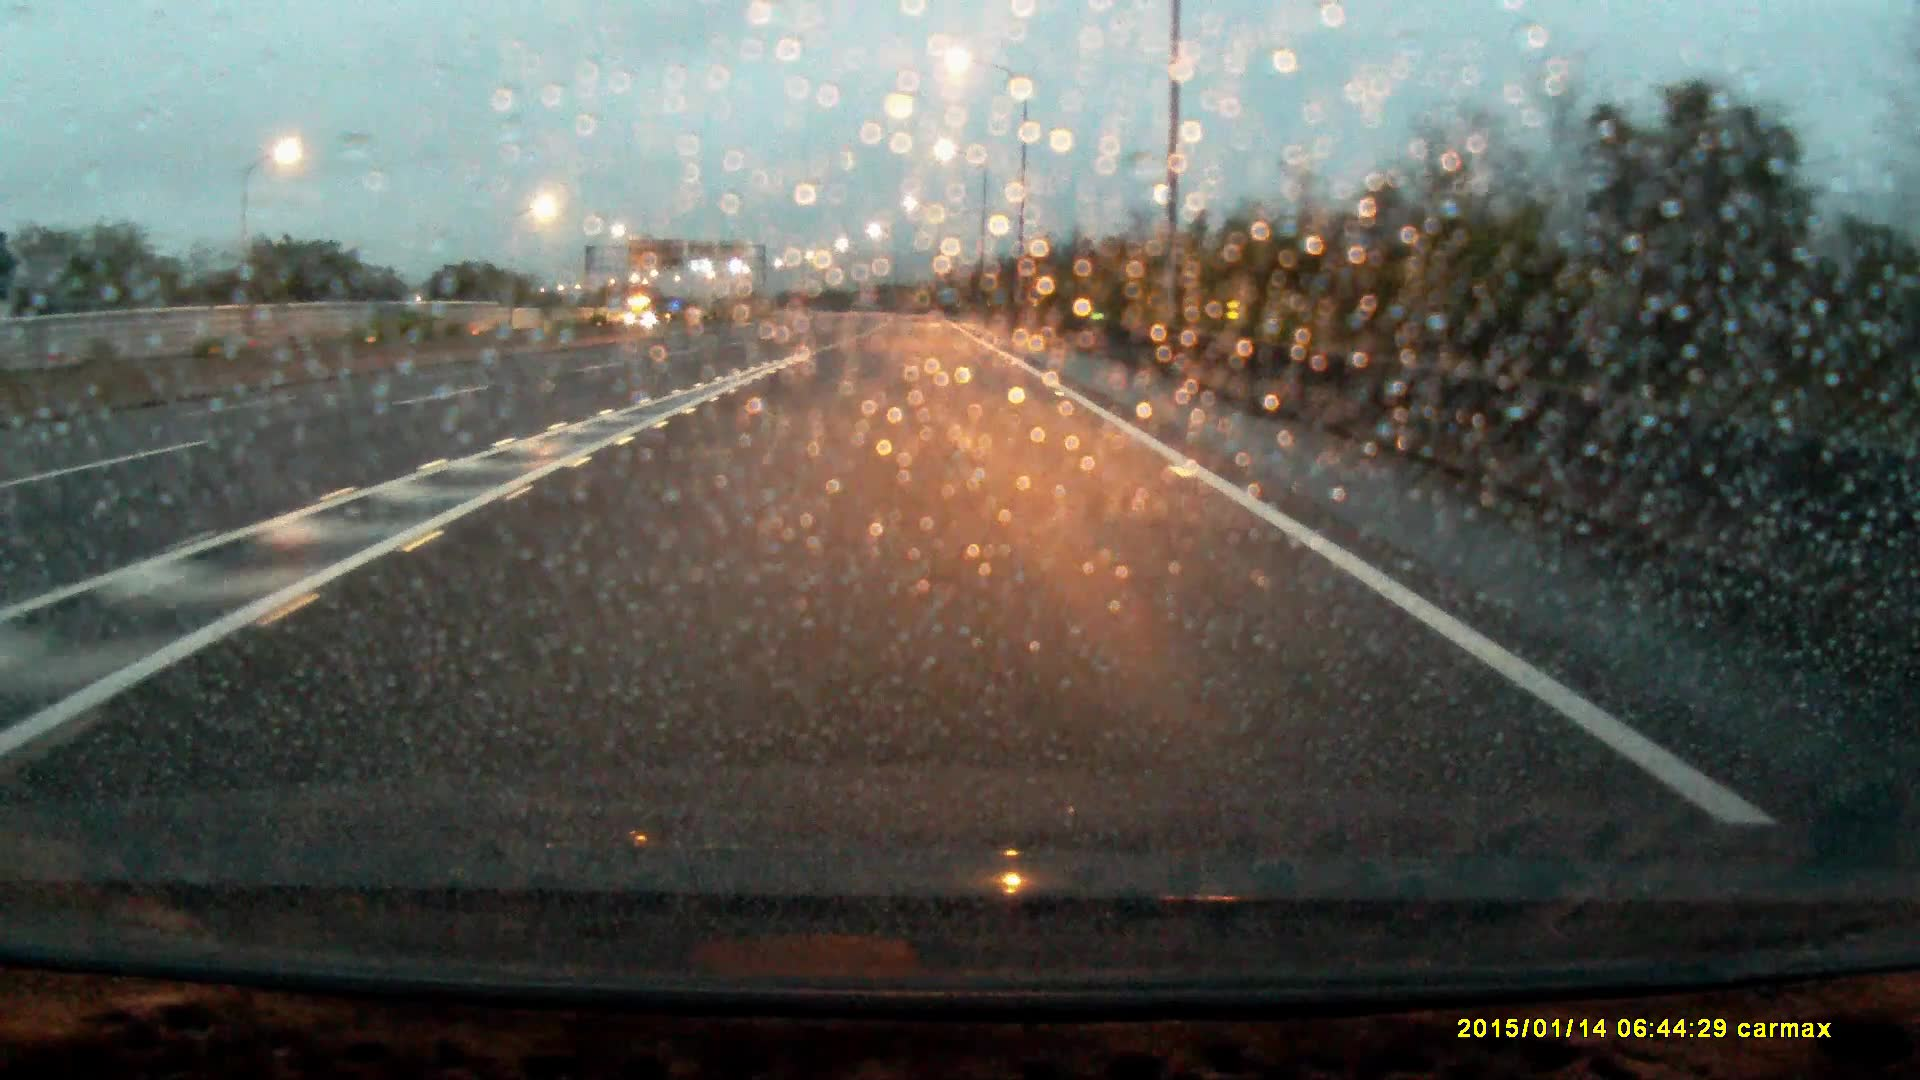vehicle: (626, 295, 659, 328)
